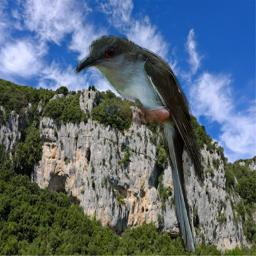Cuckoo: (74, 35, 206, 252)
